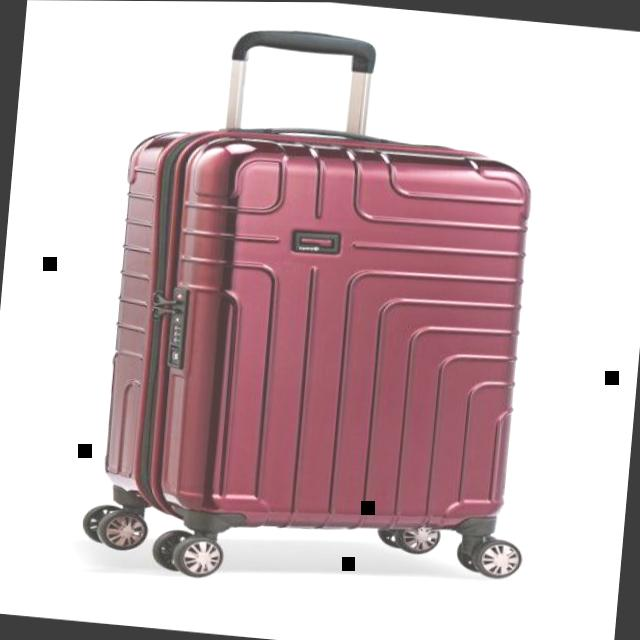luggage: (90, 100, 553, 560)
